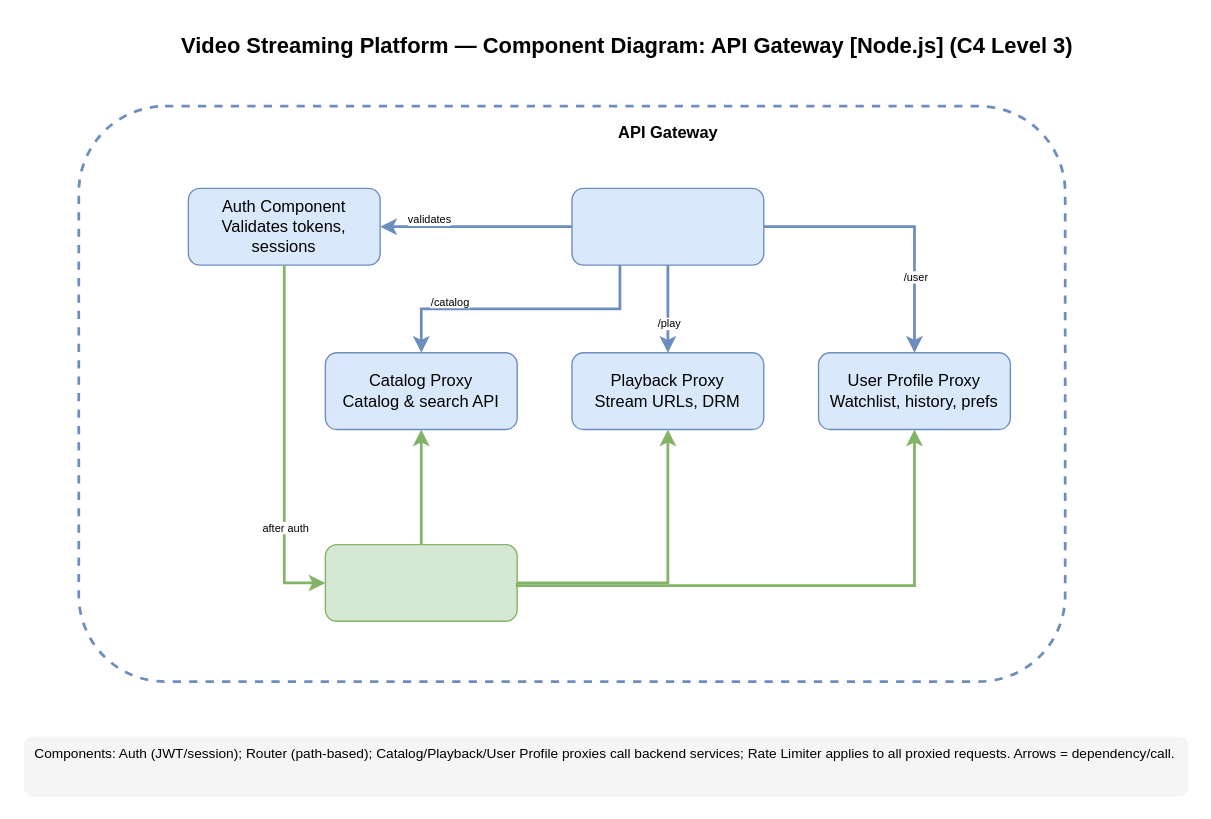
Some shapes in this 1211 by 819 pixel diagram are drawn without their labels. The shapes that lost their labels are listed below. From the top down, each one's centre as x and y in pixels, then its label:
At (667,226): "Router Component Routes requests to backends".
At (420,582): "Rate Limiter Throttle by client/IP".
